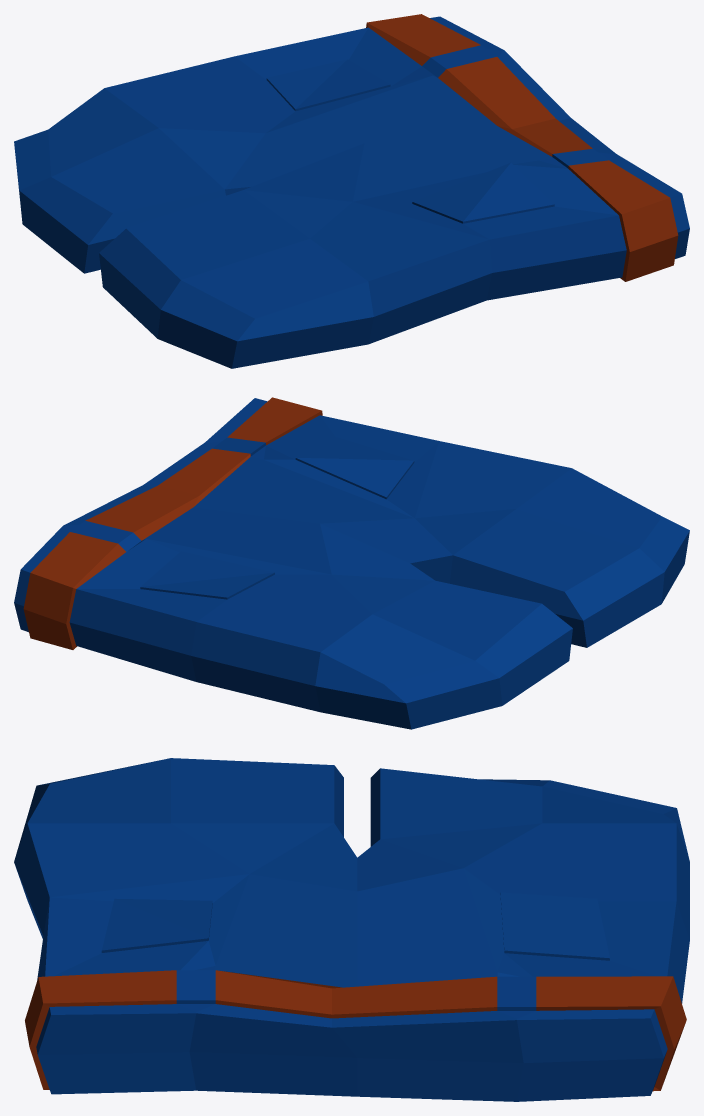
Rendered from SM_Clothes_02.fbx.
3 views of the same model, one above another, from view 1: azimuth 30°, elevation 25°; view 2: azimuth 150°, elevation 25°; view 3: azimuth 270°, elevation 25° (orthographic). The views are drawn at different scales.
Parts seen in each view (by area): view 1: SM_Clothes_02; view 2: SM_Clothes_02; view 3: SM_Clothes_02.
Part boxes in pixels (box(x1,y1,x2,y2)): SM_Clothes_02: box(14, 14, 689, 368); SM_Clothes_02: box(14, 397, 689, 729); SM_Clothes_02: box(14, 758, 689, 1101).
Size of the model in its own units: 324 by 50.71 by 316.
